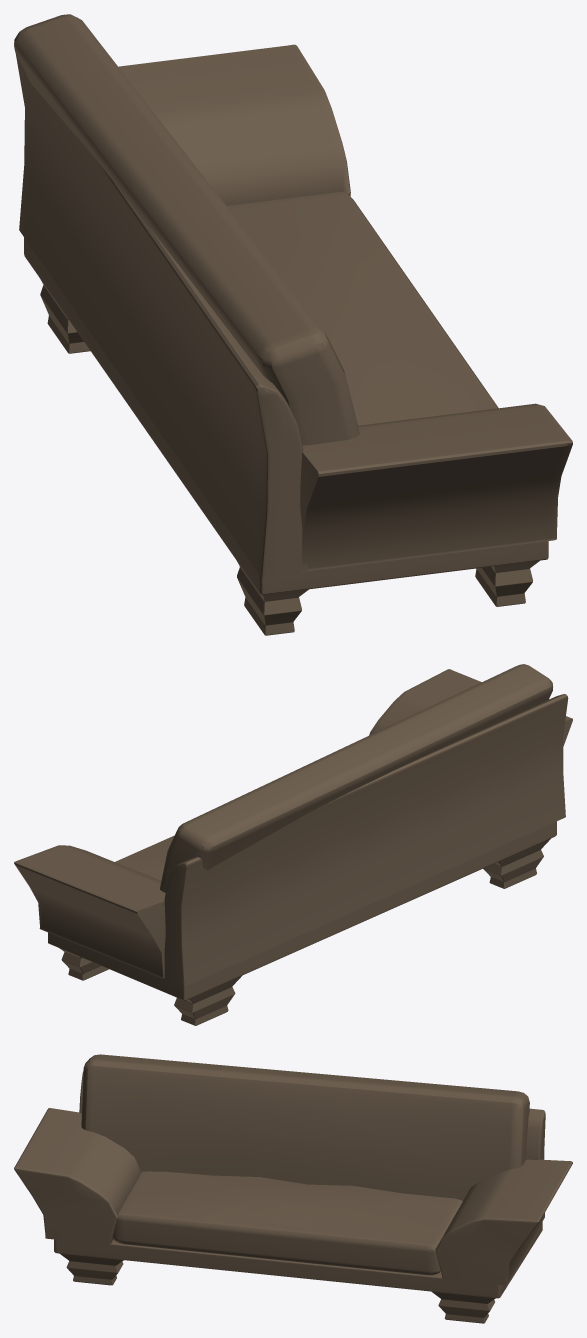
Rendered from sofa.fbx.
The picture shows the model from 3 angles, top to bottom: view 1: azimuth 30°, elevation 25°; view 2: azimuth 150°, elevation 25°; view 3: azimuth 270°, elevation 25°; orthographic projection. The views are drawn at different scales.
Visible parts, largest first — view 1: sofa; view 2: sofa; view 3: sofa.
Part boxes in pixels (left/top/right/bottom): sofa: left=14, top=14, right=572, bottom=635; sofa: left=14, top=664, right=572, bottom=1025; sofa: left=14, top=1054, right=572, bottom=1323.
Bounding box in the file's own units: 49.85 × 32.64 × 97.33.
